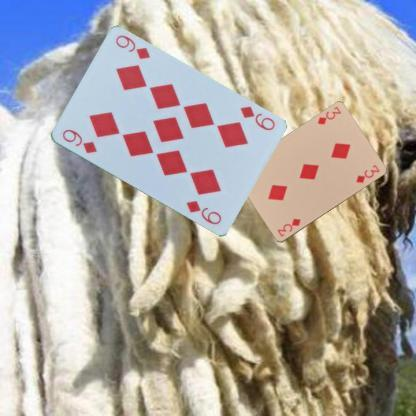3d: (275, 216, 302, 238), (315, 104, 342, 126)
9d: (58, 127, 98, 156), (236, 104, 276, 132)
